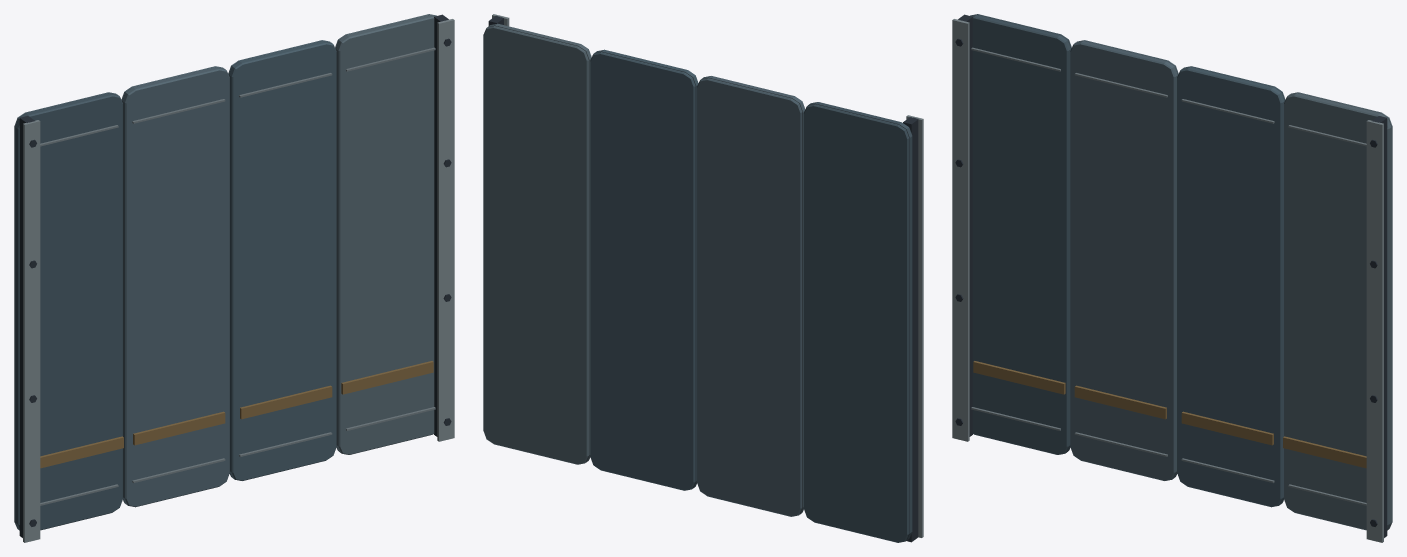
File: HV-02_bulkhead_liner.glb
3 renders of one model, left to right at view 1: azimuth 30°, elevation 25°; view 2: azimuth 150°, elevation 25°; view 3: azimuth 330°, elevation 25°, orthographic.
Parts seen in each view (by area): view 1: HV-02_bulkhead_liner; view 2: HV-02_bulkhead_liner; view 3: HV-02_bulkhead_liner.
Boxes of the visible parts, bbox=[...] form: HV-02_bulkhead_liner: bbox=[14, 14, 454, 542]; HV-02_bulkhead_liner: bbox=[483, 14, 923, 542]; HV-02_bulkhead_liner: bbox=[952, 14, 1392, 542].
Bounding box in the file's own units: 8.05 × 7.48 × 0.465.
